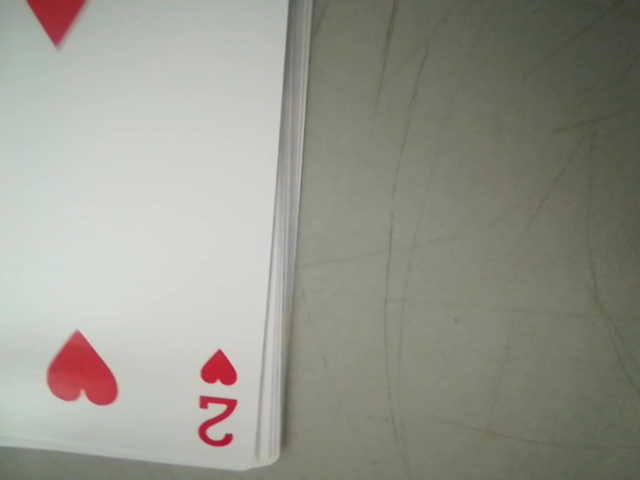hx 2: (189, 342, 249, 456)
